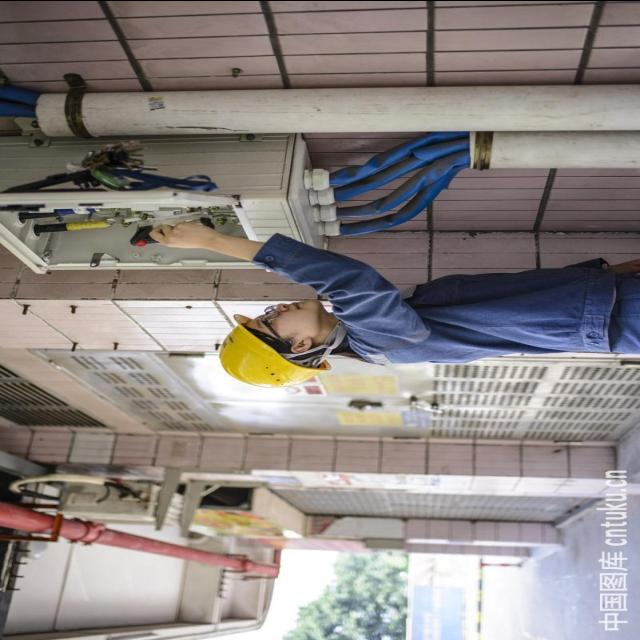helmet: (202, 310, 318, 401)
